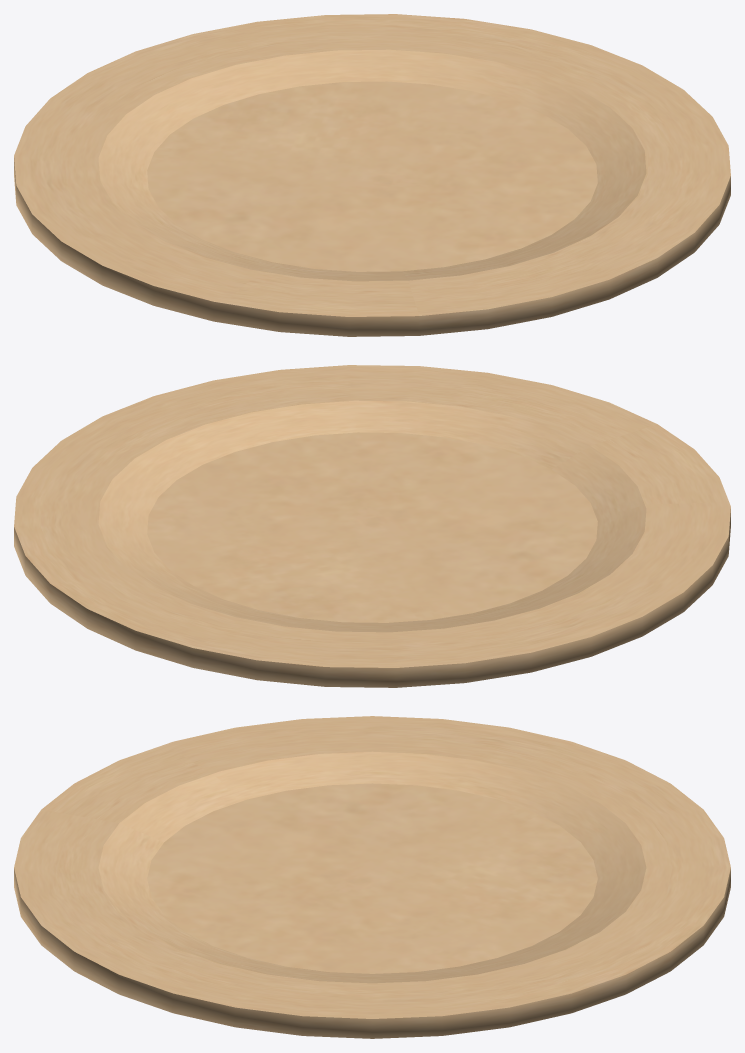
Rendered from plate.fbx.
The picture shows the model from 3 angles, top to bottom: view 1: azimuth 30°, elevation 25°; view 2: azimuth 150°, elevation 25°; view 3: azimuth 270°, elevation 25°; orthographic projection.
Parts seen in each view (by area): view 1: Plate; view 2: Plate; view 3: Plate.
Part boxes in pixels (box(x1,y1,x2,y2)): Plate: box(14, 14, 730, 336); Plate: box(14, 365, 730, 687); Plate: box(14, 716, 730, 1038).
Bounding box in the file's own units: 74.06 × 3.53 × 74.06.
